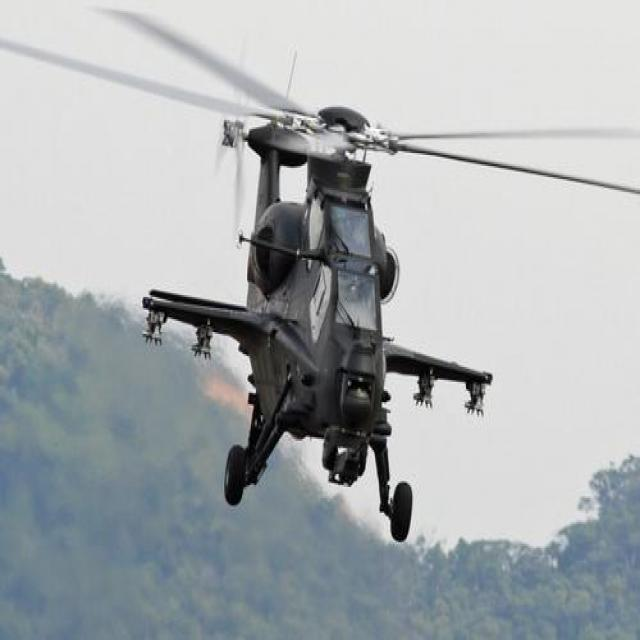MIL_HELO: (0, 4, 640, 550)
